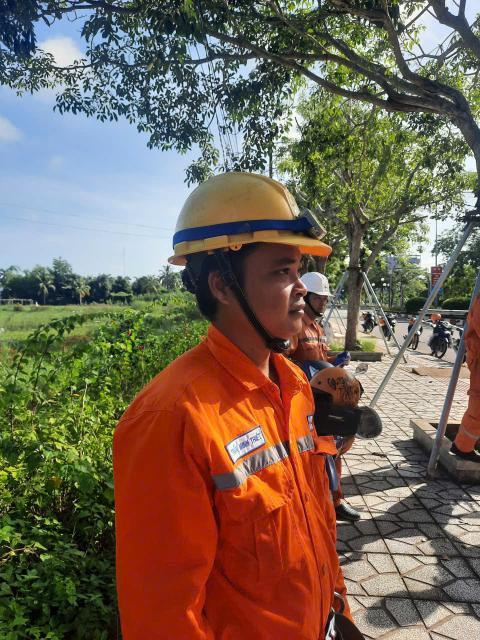gloves: (326, 493, 368, 527)
helmet: (132, 142, 327, 273), (300, 354, 373, 413), (293, 264, 343, 305)
